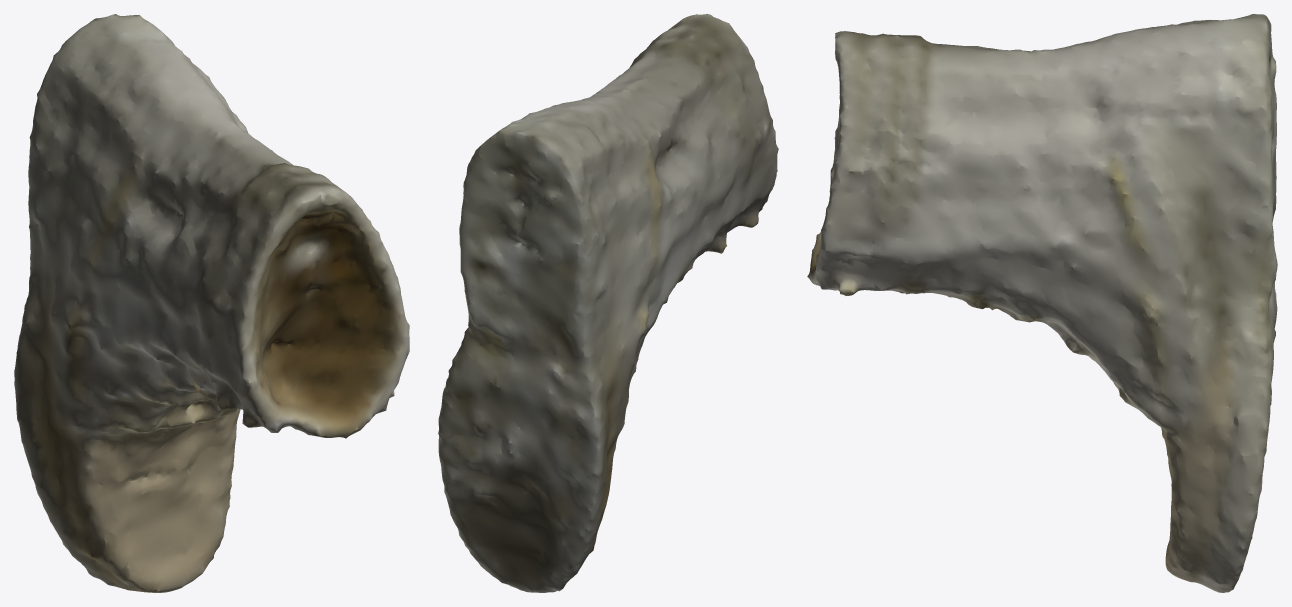
Rendered from shoe1.glb.
3 renders of one model, left to right at view 1: azimuth 30°, elevation 25°; view 2: azimuth 150°, elevation 25°; view 3: azimuth 270°, elevation 25°, orthographic. The views are drawn at different scales.
Bounding box in the file's own units: 0.3679 × 0.9937 × 0.769.
